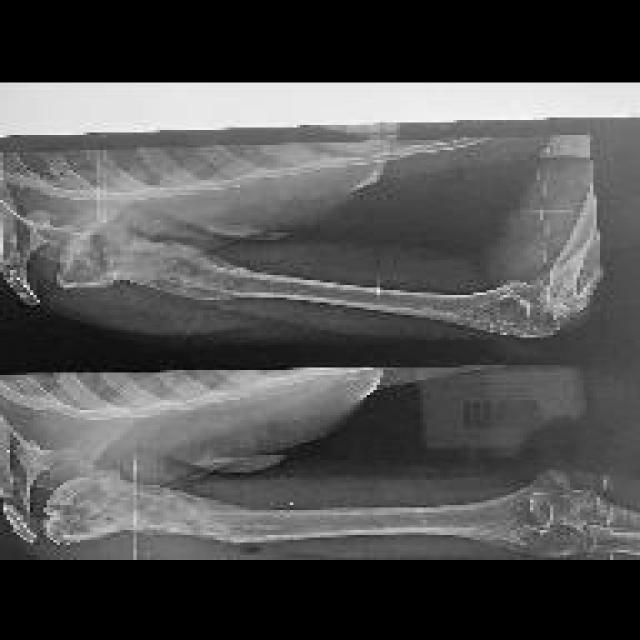bone-cancer: (60, 221, 278, 299), (45, 472, 263, 543)
